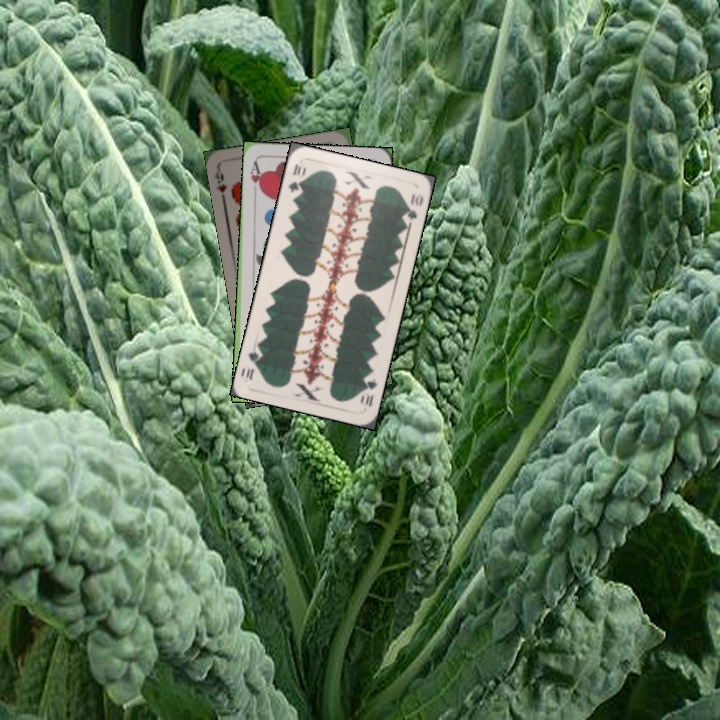G10: (356, 374, 379, 410), (284, 160, 305, 195)
H9: (210, 164, 230, 204)
HA: (246, 157, 265, 197)
